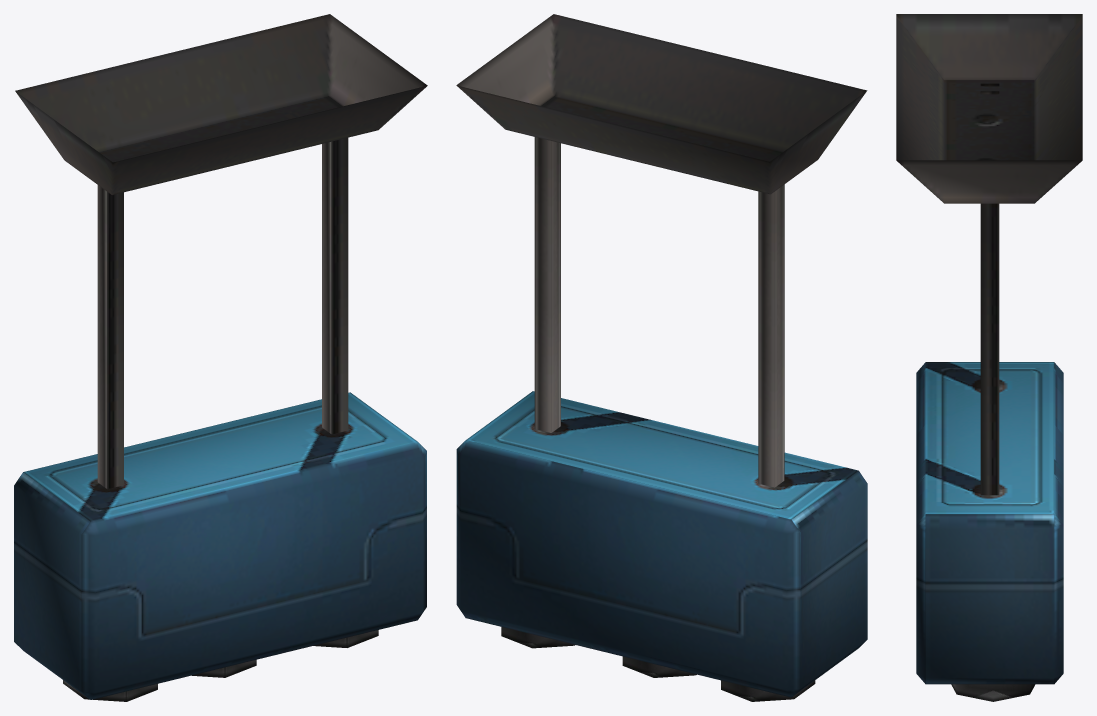
Rendered from lamp5.glb.
3 views of the same model, side by side, from view 1: azimuth 30°, elevation 25°; view 2: azimuth 150°, elevation 25°; view 3: azimuth 270°, elevation 25° (orthographic). The views are drawn at different scales.
Parts seen in each view (by area): view 1: Box12; view 2: Box12; view 3: Box12.
Part boxes in pixels (<box>): Box12: <box>14,14,427,701</box>; Box12: <box>456,14,867,701</box>; Box12: <box>896,14,1082,701</box>.
Bounding box in the file's own units: 20.56 × 32.38 × 10.1.
1 material, 1 textured.
